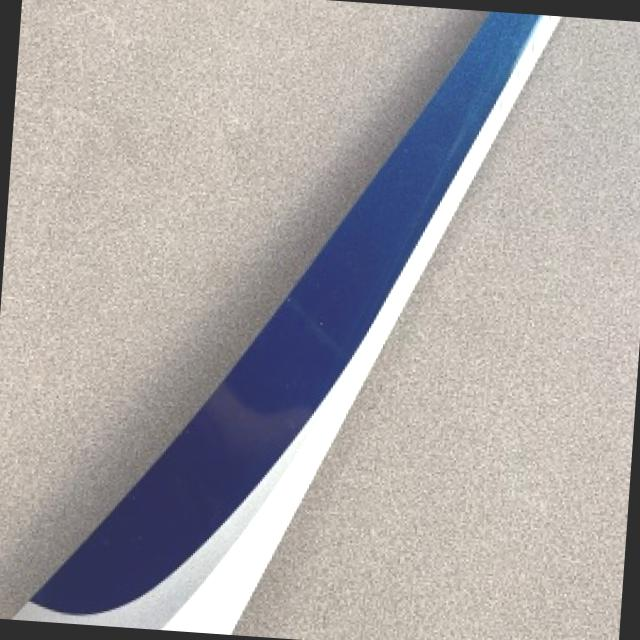healthy: (0, 0, 481, 613)
